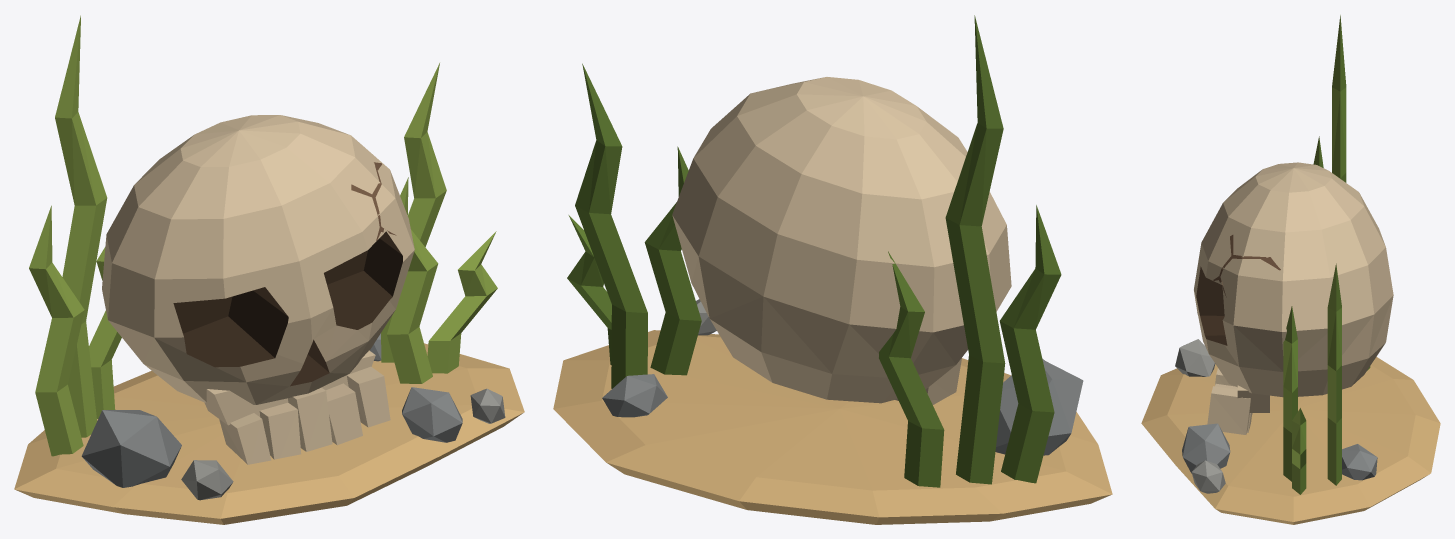
File: SkullTankDecoration.fbx
The picture shows the model from 3 angles, left to right: view 1: azimuth 30°, elevation 25°; view 2: azimuth 150°, elevation 25°; view 3: azimuth 270°, elevation 25°; orthographic projection. The views are drawn at different scales.
Parts seen in each view (by area): view 1: Skull_Cranium, Sand_Base, Seaweed_01, Seaweed_02, Rock_01.001, Seaweed_05, Seaweed_04, Seaweed_06, Rock_03.001, Seaweed_03, Skull_Tooth_03, Skull_Upper_Jaw (+6 smaller); view 2: Skull_Cranium, Sand_Base, Seaweed_01, Seaweed_04, Seaweed_02, Seaweed_03, Seaweed_05, Rock_01.001, Seaweed_06, Rock_05.001, Skull_Tooth_01; view 3: Skull_Cranium, Sand_Base, Seaweed_04, Seaweed_05, Seaweed_01, Rock_03.001, Skull_Tooth_05, Seaweed_06, Rock_02.001, Rock_05.001, Rock_04.001, Skull_Upper_Jaw (+1 smaller).
Boxes of the visible parts, x1,y1,x2,y2 form: Skull_Cranium: (102,115,414,404); Sand_Base: (14,343,524,524); Seaweed_01: (55,15,107,437); Seaweed_02: (29,205,84,456); Rock_01.001: (81,410,181,487); Seaweed_05: (387,177,438,383); Seaweed_04: (381,63,446,362); Seaweed_06: (427,231,497,373); Rock_03.001: (402,387,462,442); Seaweed_03: (89,247,121,418); Skull_Tooth_03: (288,387,332,451); Skull_Upper_Jaw: (204,350,375,425); Skull_Cranium: (672,77,1011,403); Sand_Base: (553,330,1112,524); Seaweed_01: (945,15,1005,484); Seaweed_04: (575,63,647,388); Seaweed_02: (999,205,1061,483); Seaweed_03: (879,251,944,487); Seaweed_05: (644,146,701,375); Rock_01.001: (995,360,1083,455); Seaweed_06: (567,215,611,364); Rock_05.001: (602,374,667,417); Skull_Tooth_01: (925,358,961,404); Skull_Cranium: (1194,162,1393,397); Sand_Base: (1141,357,1440,524); Seaweed_04: (1327,263,1341,485); Seaweed_05: (1283,306,1297,481); Seaweed_01: (1332,15,1346,182); Rock_03.001: (1182,423,1230,473); Skull_Tooth_05: (1207,386,1250,434); Seaweed_06: (1292,408,1306,494); Rock_02.001: (1175,339,1215,376); Rock_05.001: (1342,444,1377,480); Rock_04.001: (1191,460,1225,493); Skull_Upper_Jaw: (1237,385,1269,412).
Bounding box in the file's own units: 546 × 468 × 352.
1 material, 1 textured.
